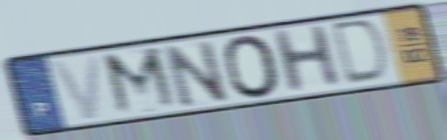D: (331, 16, 391, 88)
H: (267, 22, 345, 97)
M: (99, 45, 183, 120)
N: (159, 38, 232, 111)
O: (220, 32, 285, 100)
V: (48, 52, 104, 123)
